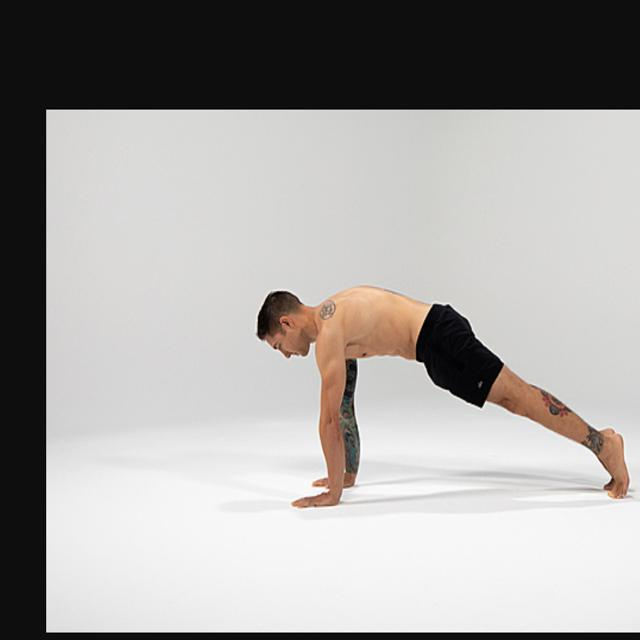Plank_Pose: (246, 278, 637, 514)
